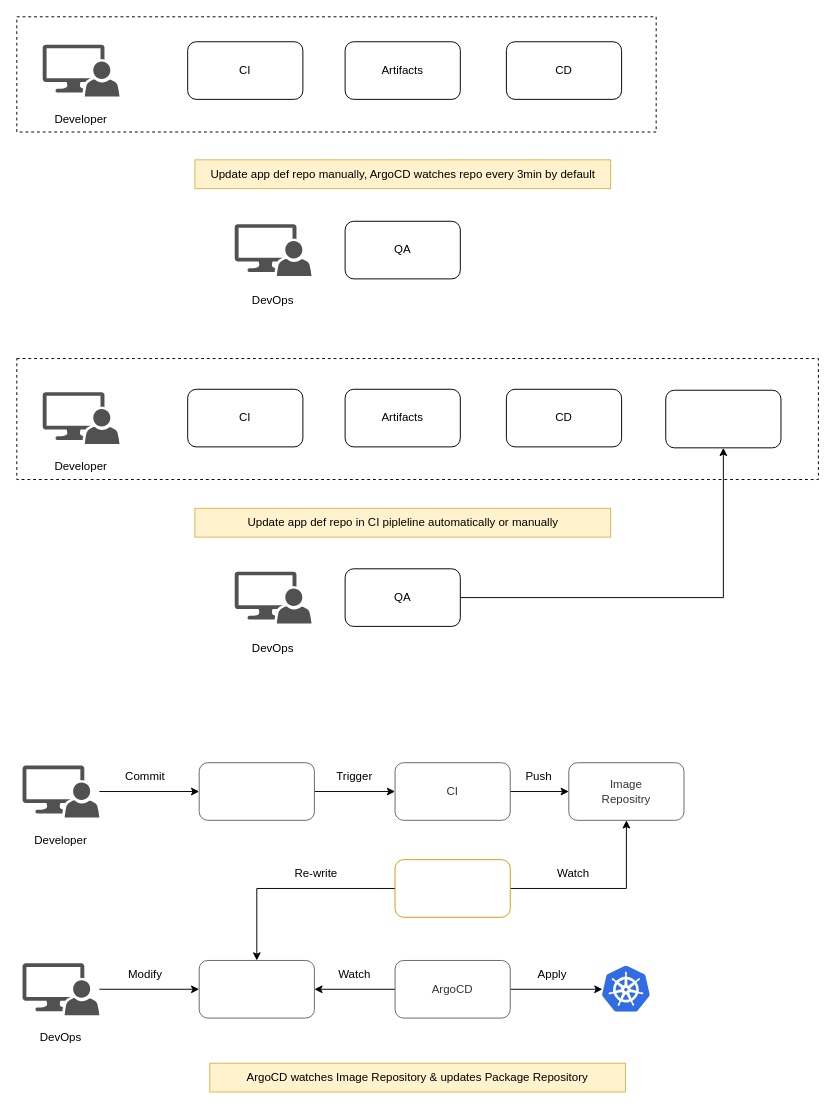
Image size: 835x1109. Some labels were removed from this diagram. The shapes that lost their labels are listed below. From the top down, each one's centre as x and y in pixels, then its label:
At point (723, 418): "Release pipeline".
At point (256, 791): "SCM".
At point (452, 888): "Argo Image Updater".
At point (256, 989): "Package Repository".
